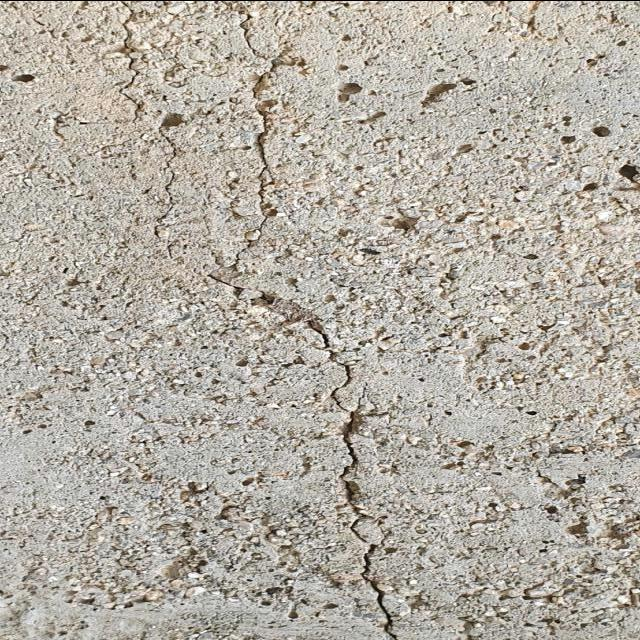SurfaceCrack: (188, 1, 438, 638)
